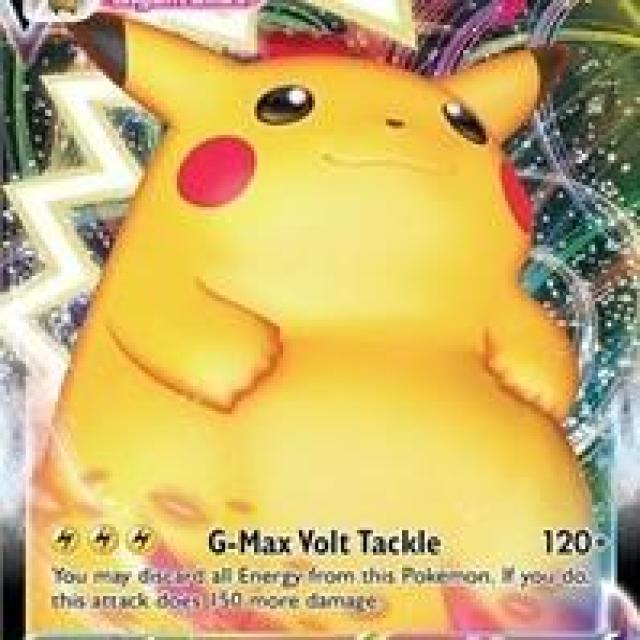pikachu: (49, 11, 590, 519)
